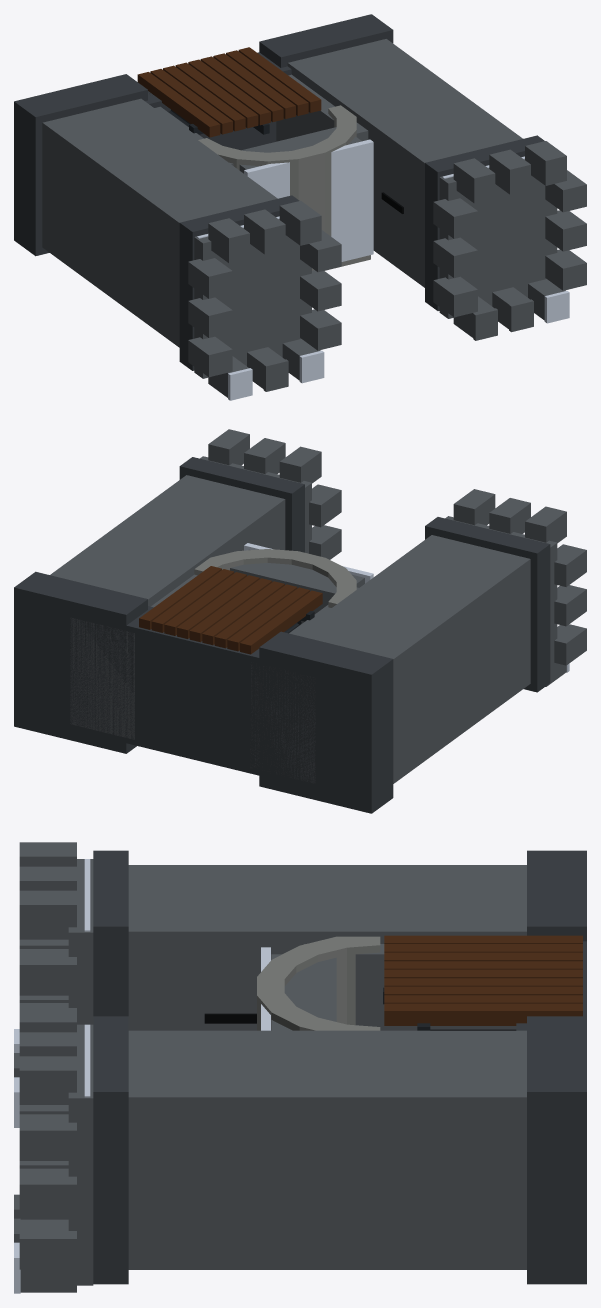
Rendered from Winterfell_Gatehouse.obj.
The picture shows the model from 3 angles, top to bottom: view 1: azimuth 30°, elevation 25°; view 2: azimuth 150°, elevation 25°; view 3: azimuth 270°, elevation 25°; orthographic projection. The views are drawn at different scales.
Visible parts, largest first — view 1: Winterfell_Gatehouse_Exterior; view 2: Winterfell_Gatehouse_Exterior; view 3: Winterfell_Gatehouse_Exterior.
Part boxes in pixels (x1,y1,x2,y2): Winterfell_Gatehouse_Exterior: (14, 14, 586, 400); Winterfell_Gatehouse_Exterior: (14, 429, 586, 813); Winterfell_Gatehouse_Exterior: (14, 842, 586, 1293).
Size of the model in its own units: 1110 by 451 by 1053.
